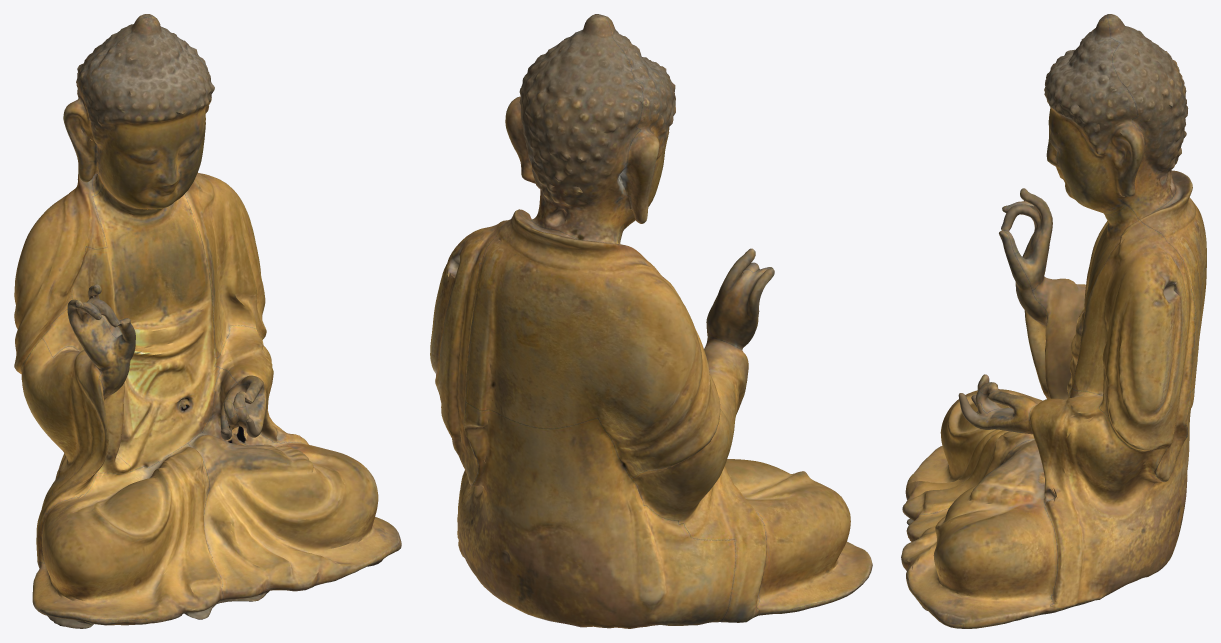
The model's file is buddha.glb.
3 views of the same model, side by side, from view 1: azimuth 30°, elevation 25°; view 2: azimuth 150°, elevation 25°; view 3: azimuth 270°, elevation 25° (orthographic). The views are drawn at different scales.
Parts seen in each view (by area): view 1: NMK_Goryeo_Amitabha_duk002116_002; view 2: NMK_Goryeo_Amitabha_duk002116_002; view 3: NMK_Goryeo_Amitabha_duk002116_002.
Part boxes in pixels (box(x1,y1,x2,y2)): NMK_Goryeo_Amitabha_duk002116_002: box(14, 14, 401, 628); NMK_Goryeo_Amitabha_duk002116_002: box(430, 14, 872, 628); NMK_Goryeo_Amitabha_duk002116_002: box(901, 14, 1206, 628).
Size of the model in its own units: 0.7043 by 1 by 0.5238.
1 material, 1 textured.
